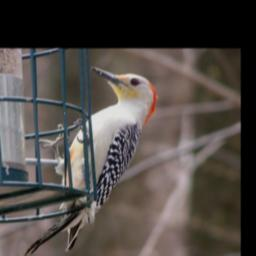Woodpecker: (22, 63, 161, 256)
